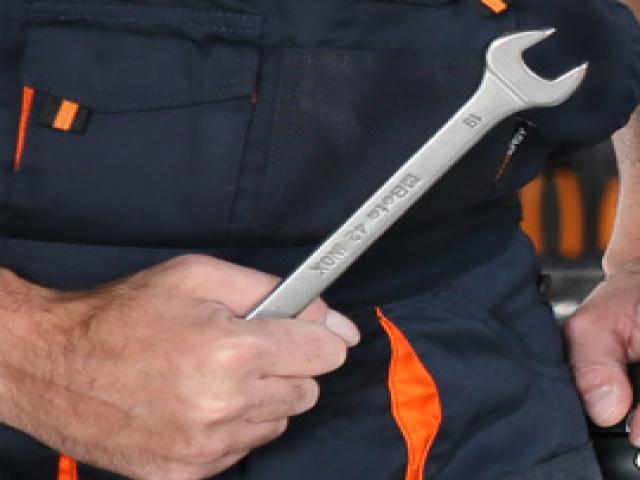Hand: (1, 256, 360, 480), (566, 107, 640, 426)
Wrench: (248, 29, 588, 320)
